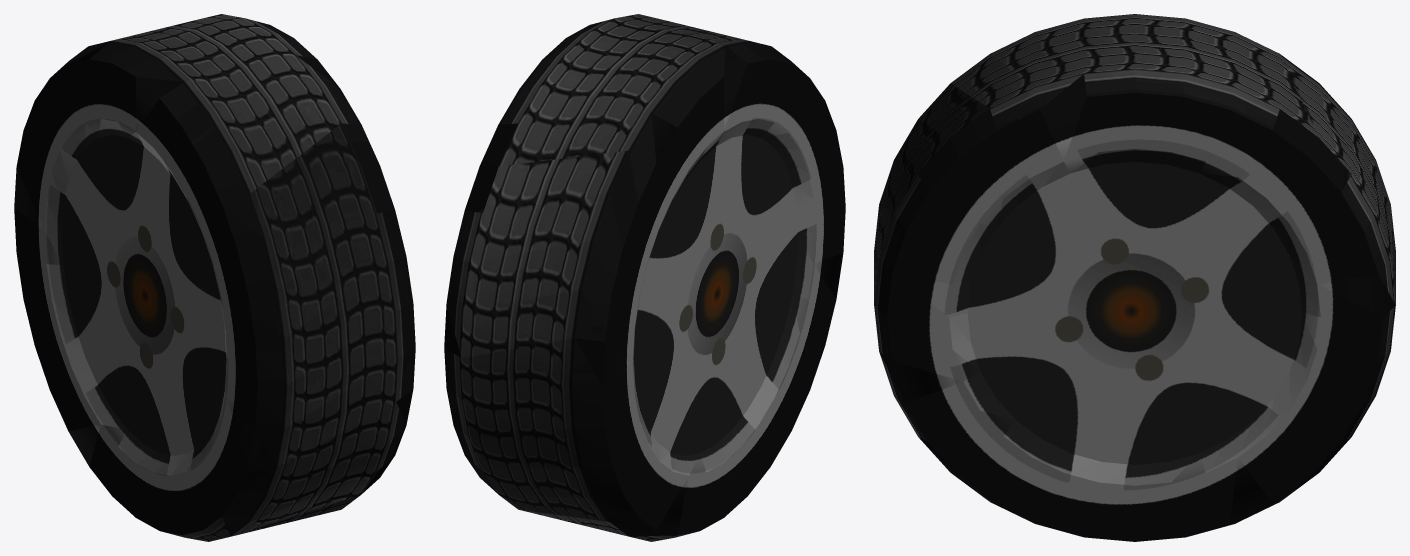
The model's file is LlantaT.obj.
3 renders of one model, left to right at view 1: azimuth 30°, elevation 25°; view 2: azimuth 150°, elevation 25°; view 3: azimuth 270°, elevation 25°, orthographic.
Parts seen in each view (by area): view 1: Wheel1; view 2: Wheel1; view 3: Wheel1.
Part boxes in pixels (bbox=[...]): Wheel1: bbox=[14, 14, 415, 541]; Wheel1: bbox=[444, 14, 845, 541]; Wheel1: bbox=[874, 14, 1395, 541].
Bounding box in the file's own units: 2.19 × 6.16 × 6.16.
